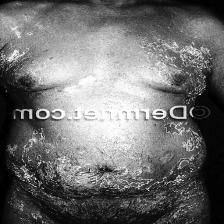Non-Cancerous Skin Condition: (168, 131, 202, 182), (19, 159, 80, 184), (91, 180, 149, 196), (180, 48, 212, 70), (1, 48, 28, 68)
